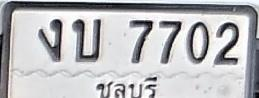0: (186, 20, 209, 64)
2: (214, 22, 239, 64)
7: (129, 19, 153, 63), (160, 20, 182, 64)
A07: (38, 18, 63, 62)
A26: (72, 18, 102, 62)
CBI: (91, 71, 161, 98)
